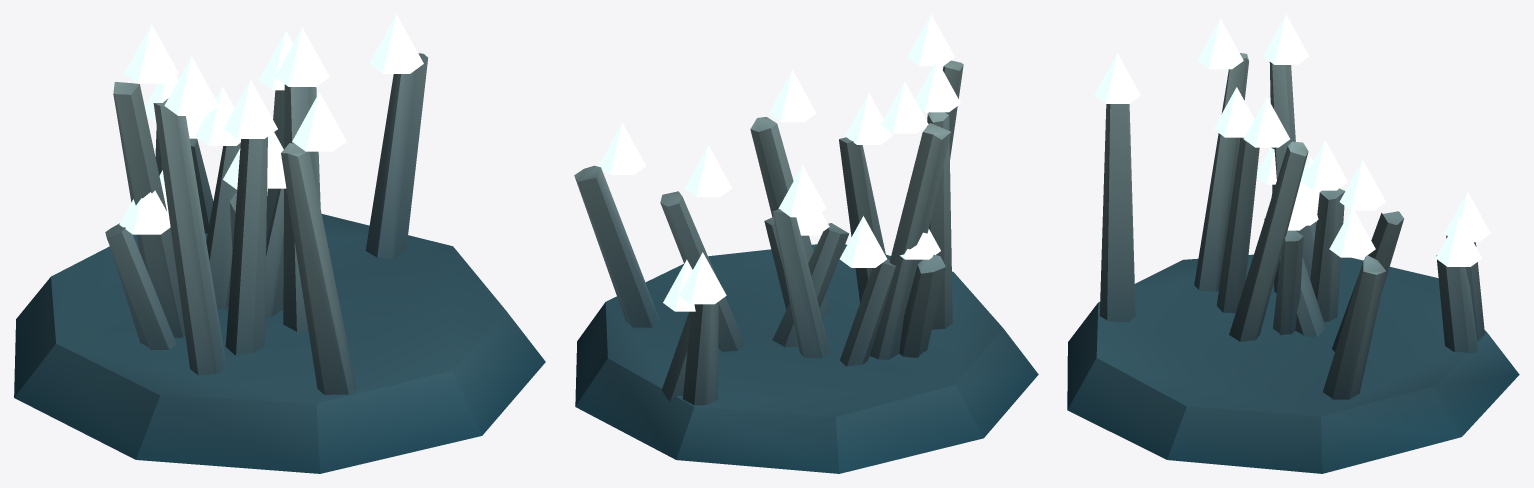
Rendered from ruin_tube_worms.glb.
The picture shows the model from 3 angles, left to right: view 1: azimuth 30°, elevation 25°; view 2: azimuth 150°, elevation 25°; view 3: azimuth 270°, elevation 25°; orthographic projection. The views are drawn at different scales.
Parts seen in each view (by area): view 1: ruin_tube_worms_stone, ruin_tube_worms_bio; view 2: ruin_tube_worms_stone, ruin_tube_worms_bio; view 3: ruin_tube_worms_stone, ruin_tube_worms_bio.
Boxes of the visible parts, x1,y1,x2,y2 form: ruin_tube_worms_stone: (14, 53, 545, 473); ruin_tube_worms_bio: (119, 14, 423, 234); ruin_tube_worms_stone: (574, 60, 1038, 473); ruin_tube_worms_bio: (598, 14, 960, 311); ruin_tube_worms_stone: (1067, 53, 1519, 473); ruin_tube_worms_bio: (1094, 14, 1490, 266).
Bounding box in the file's own units: 2.75 × 2.08 × 2.71.
